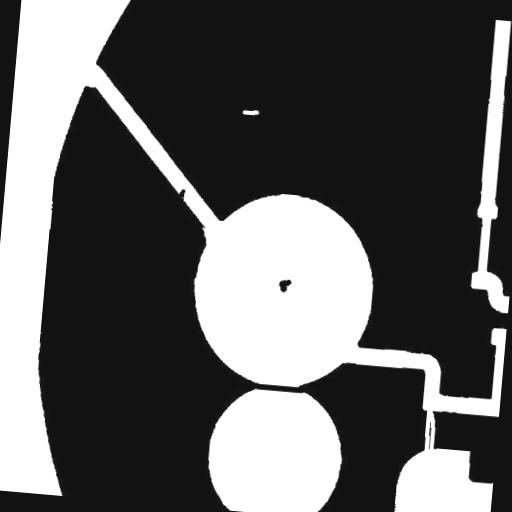copper: (270, 270, 299, 300)
mousebite: (72, 67, 107, 96), (192, 218, 220, 252)
open: (415, 398, 445, 462)
pin-hole: (234, 100, 267, 124)
short: (246, 374, 317, 401)
spur: (168, 180, 194, 208)
